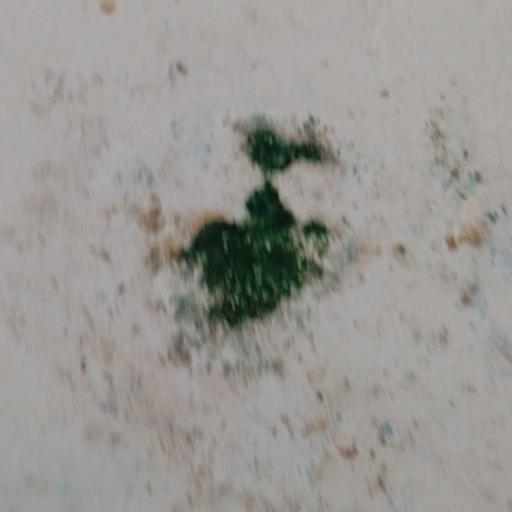algae: (129, 73, 419, 401)
